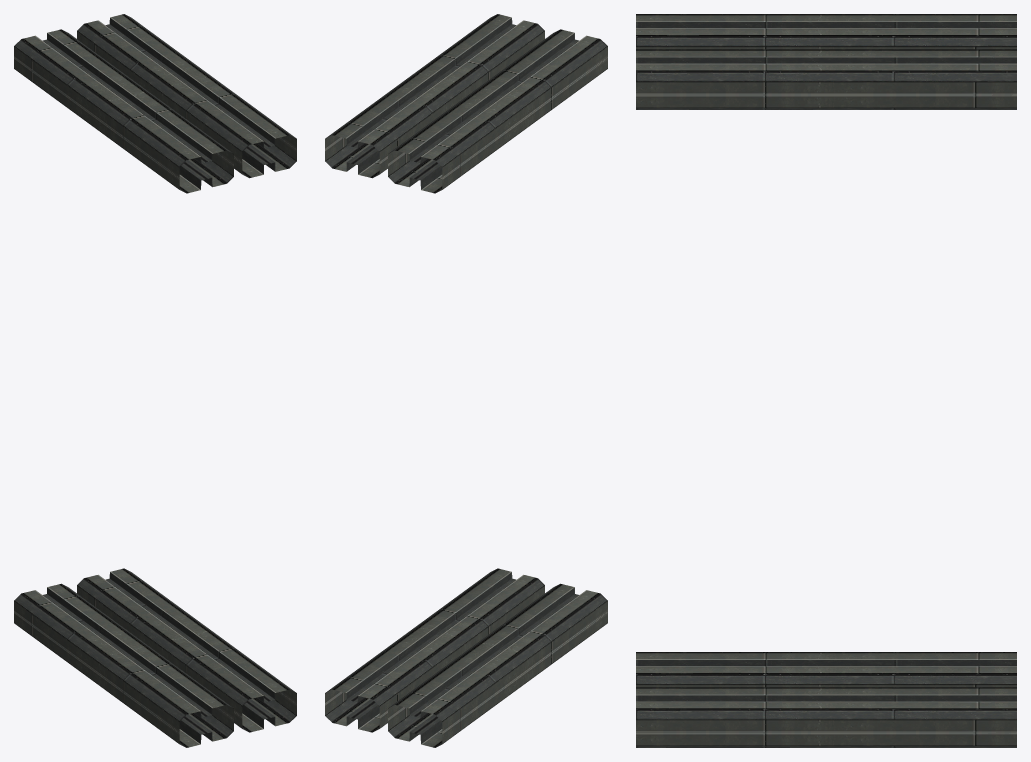
Rendered from TallWindowFrame_1x2.FBX.
3 views of the same model, side by side, from view 1: azimuth 30°, elevation 25°; view 2: azimuth 150°, elevation 25°; view 3: azimuth 270°, elevation 25° (orthographic). The views are drawn at different scales.
Parts seen in each view (by area): view 1: TallWindowFrame_1x2; view 2: TallWindowFrame_1x2; view 3: TallWindowFrame_1x2.
Part boxes in pixels (<box>): TallWindowFrame_1x2: <box>14,14,296,747</box>; TallWindowFrame_1x2: <box>325,14,607,747</box>; TallWindowFrame_1x2: <box>636,14,1016,747</box>.
Size of the model in its own units: 0.8183 by 3.92 by 2.
